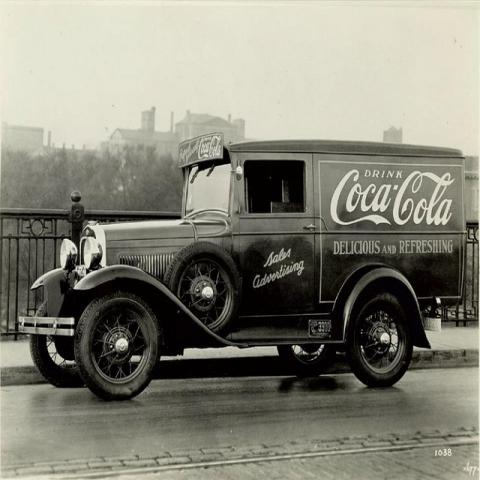car: (16, 129, 466, 409)
truck: (18, 132, 466, 402)
